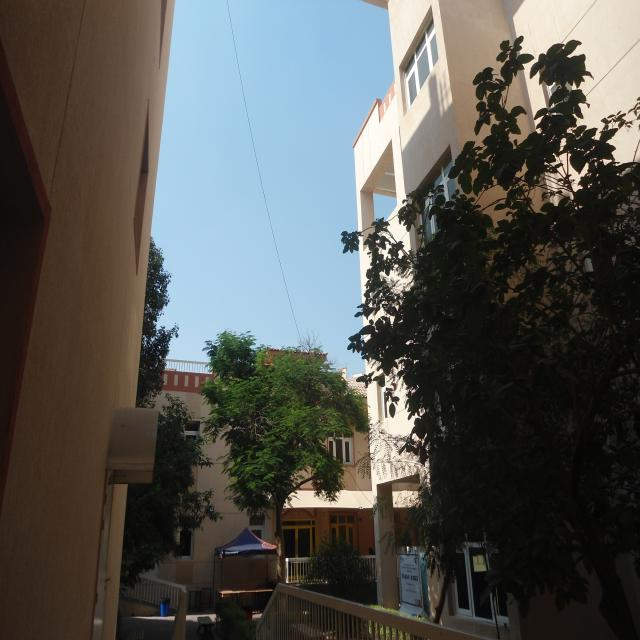railing: (256, 583, 480, 640), (136, 238, 179, 407), (120, 575, 188, 640)
tree-chair-bench-table-wall: (344, 38, 640, 638), (202, 330, 368, 583), (136, 238, 179, 407)
